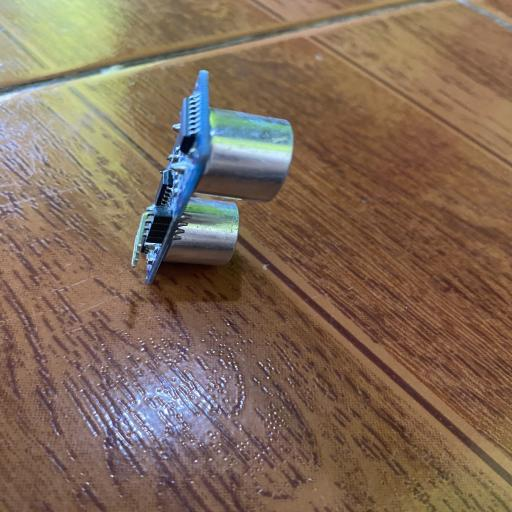Ultrasonic Sensor: (130, 69, 294, 285)
